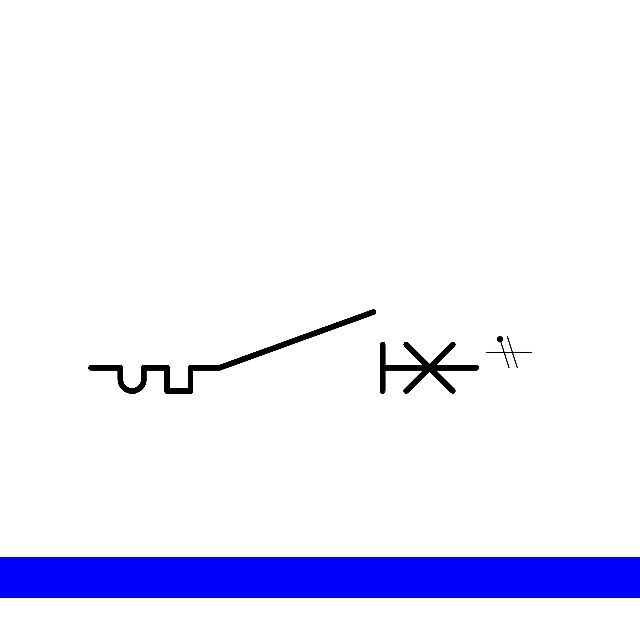interruptor_termomagnetico: (81, 302, 486, 401)
